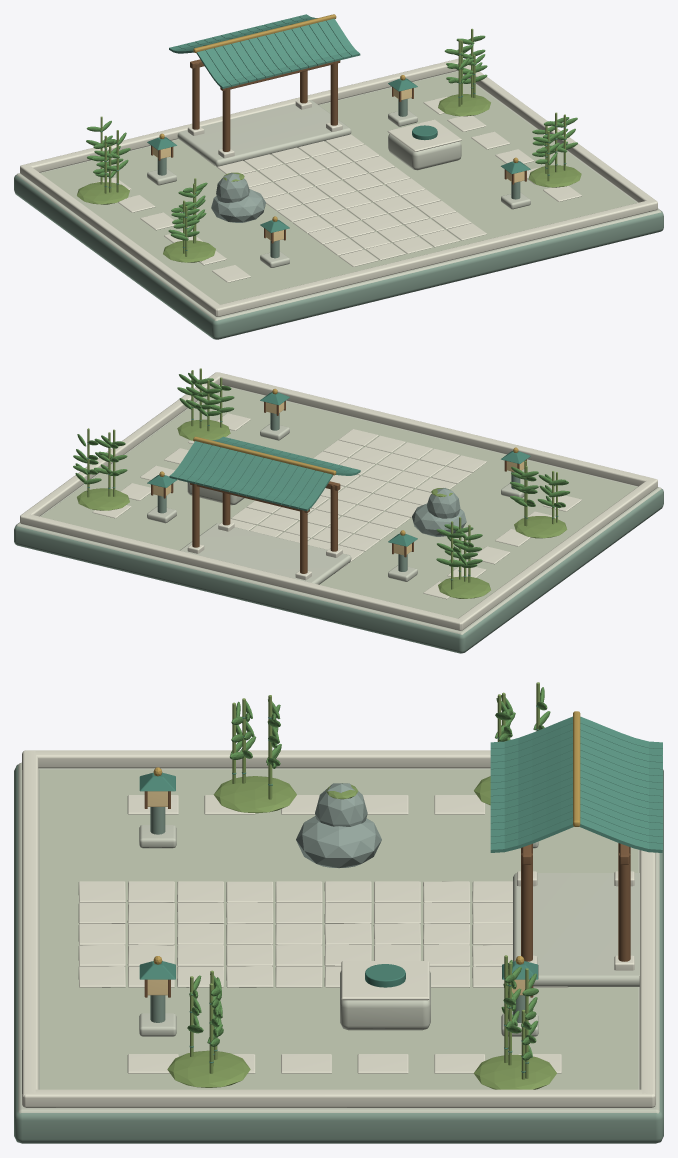
Rendered from pre_surface_clearance_movement_garden.glb.
3 views of the same model, one above another, from view 1: azimuth 30°, elevation 25°; view 2: azimuth 150°, elevation 25°; view 3: azimuth 270°, elevation 25° (orthographic). The views are drawn at different scales.
Parts seen in each view (by area): view 1: Sand garden surface, Floating courtyard plinth, Pavilion platform, Low end coping, Low end coping.001, Limestone upper terrace, Low side coping, Low side coping.001, Meditation stone, Scholar rock base, Meditation stone top, Moss planting bed.003 (+9 smaller); view 2: Sand garden surface, Floating courtyard plinth, Low end coping.001, Low end coping, Pavilion platform, Limestone upper terrace, Low side coping, Low side coping.001, Scholar rock base, Moss planting bed.001, Moss planting bed.002, Moss planting bed (+23 smaller); view 3: Sand garden surface, Floating courtyard plinth, Low side coping.001, Pavilion platform, Low side coping, Limestone upper terrace, Low end coping, Low end coping.001, Scholar rock base, Meditation stone, Meditation stone top, Moss planting bed.002 (+73 smaller).
Part boxes in pixels (x1,y1,x2,y2): Sand garden surface: (41, 71, 636, 304); Floating courtyard plinth: (14, 175, 663, 339); Pavilion platform: (177, 100, 351, 166); Low end coping: (216, 200, 657, 316); Low end coping.001: (20, 58, 458, 172); Limestone upper terrace: (16, 70, 661, 320); Low side coping: (20, 165, 220, 316); Low side coping.001: (458, 62, 657, 202); Meditation stone: (388, 134, 461, 170); Scholar rock base: (211, 189, 265, 222); Meditation stone top: (387, 119, 461, 151); Moss planting bed.003: (528, 165, 581, 187); Sand garden surface: (41, 388, 637, 618); Floating courtyard plinth: (14, 489, 663, 653); Low end coping.001: (20, 514, 462, 630); Low end coping: (215, 372, 657, 486); Pavilion platform: (180, 523, 351, 584); Limestone upper terrace: (16, 385, 661, 634); Low side coping: (457, 479, 657, 630); Low side coping.001: (20, 372, 220, 516); Scholar rock base: (412, 503, 466, 536); Moss planting bed.001: (77, 488, 129, 510); Moss planting bed.002: (514, 516, 567, 538); Moss planting bed: (438, 576, 490, 598); Sand garden surface: (39, 769, 638, 1089); Floating courtyard plinth: (14, 764, 663, 1143); Low side coping.001: (23, 1089, 654, 1107); Pavilion platform: (513, 873, 639, 986); Low side coping: (24, 750, 490, 768); Limestone upper terrace: (18, 762, 659, 1113); Low end coping: (22, 751, 38, 1106); Low end coping.001: (639, 850, 655, 1106); Scholar rock base: (296, 816, 381, 868); Meditation stone: (340, 971, 430, 1030); Meditation stone top: (341, 961, 429, 1000); Moss planting bed.002: (213, 776, 296, 813).
Size of the model in its own units: 18 by 4.86 by 14.
